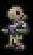zombie: (0, 1, 33, 55)
